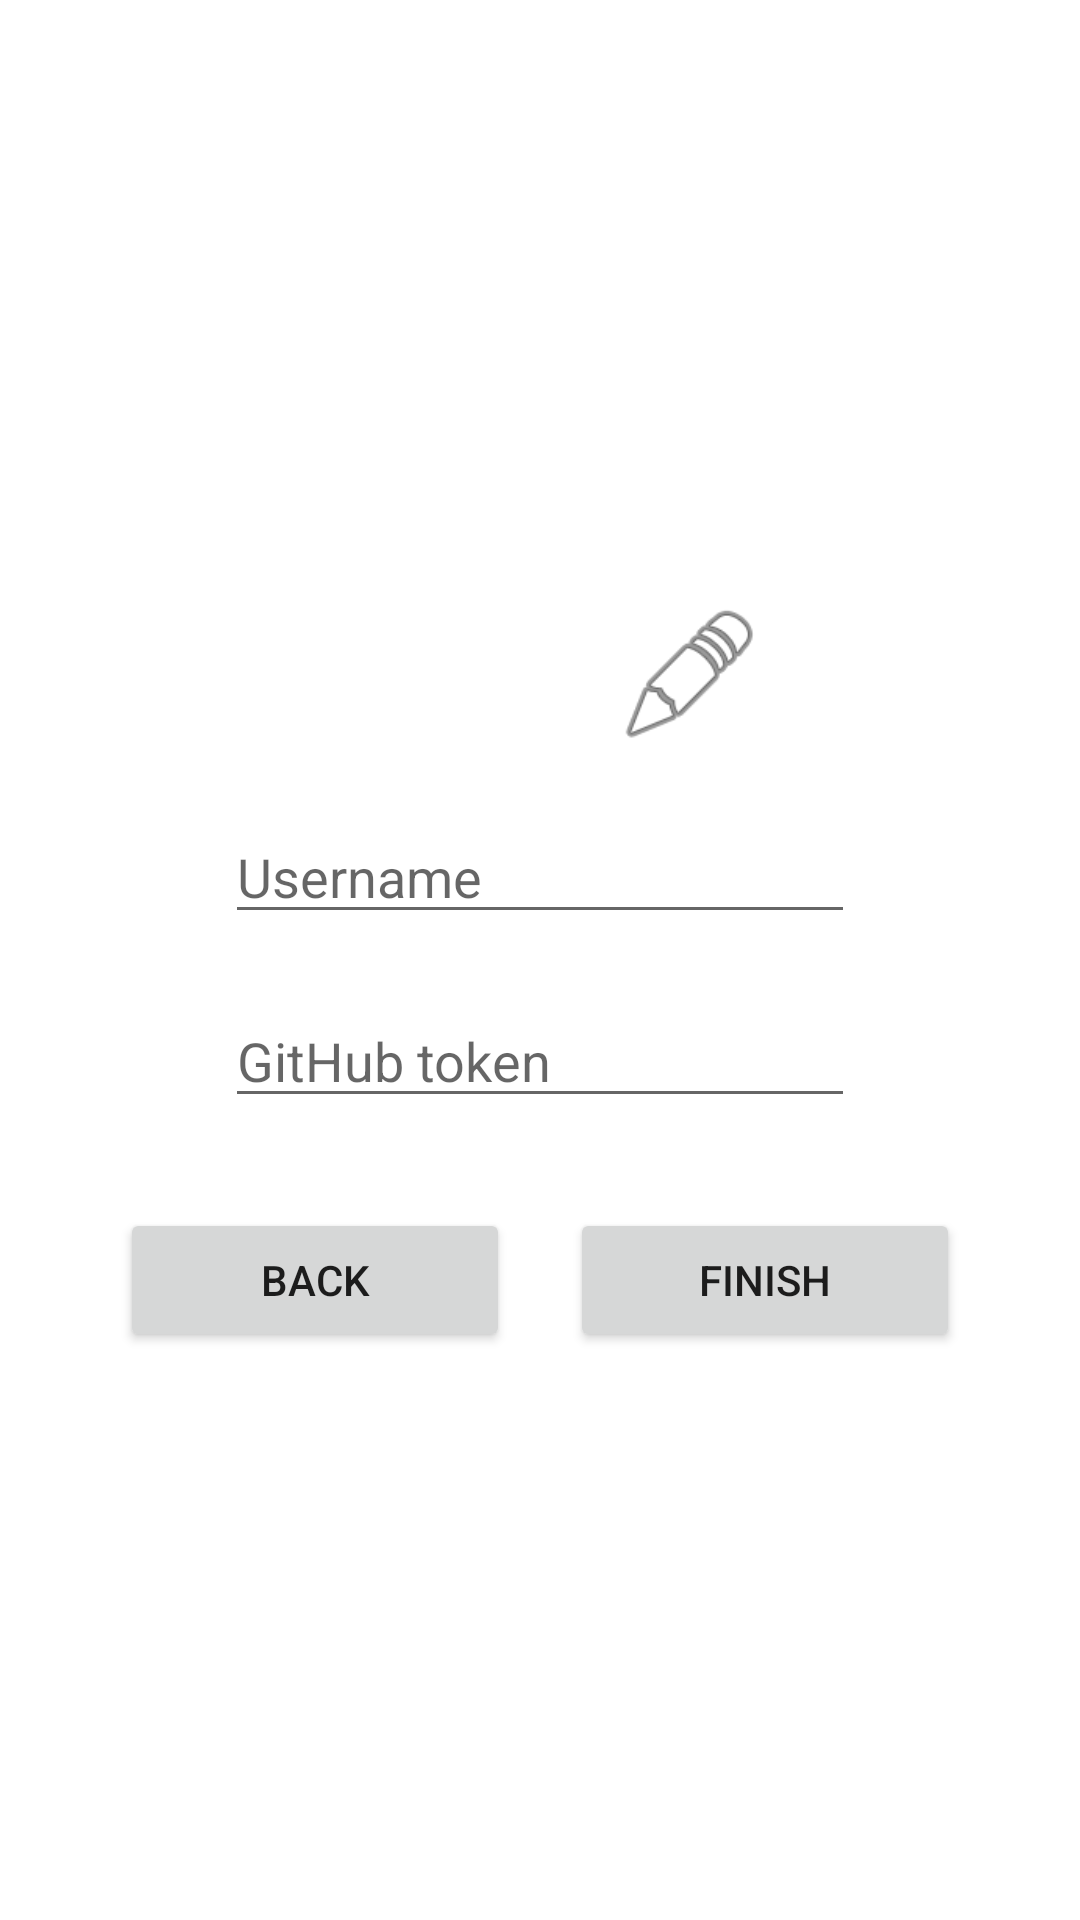

Point at icon controls on the screen. Image size 1080w x 1920h, points as point (x, y).
edit: point (689, 674)
